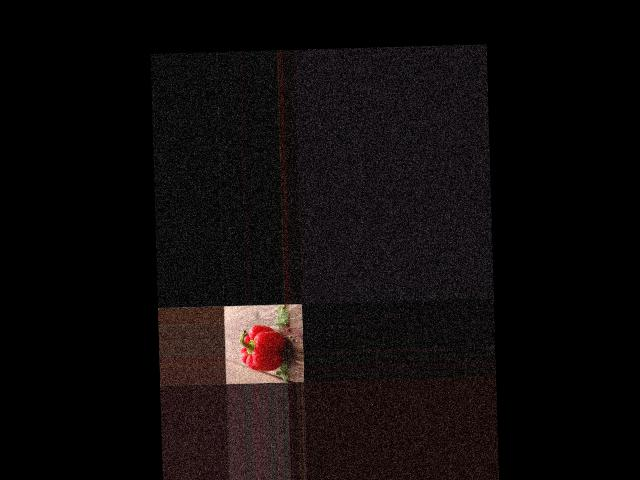bell_pepper: (235, 322, 287, 375)
